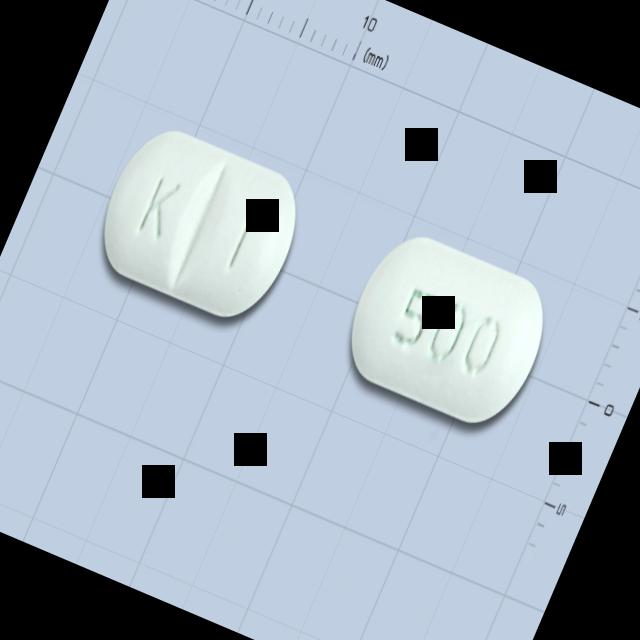Amocla: (78, 113, 321, 340), (332, 220, 565, 438)
